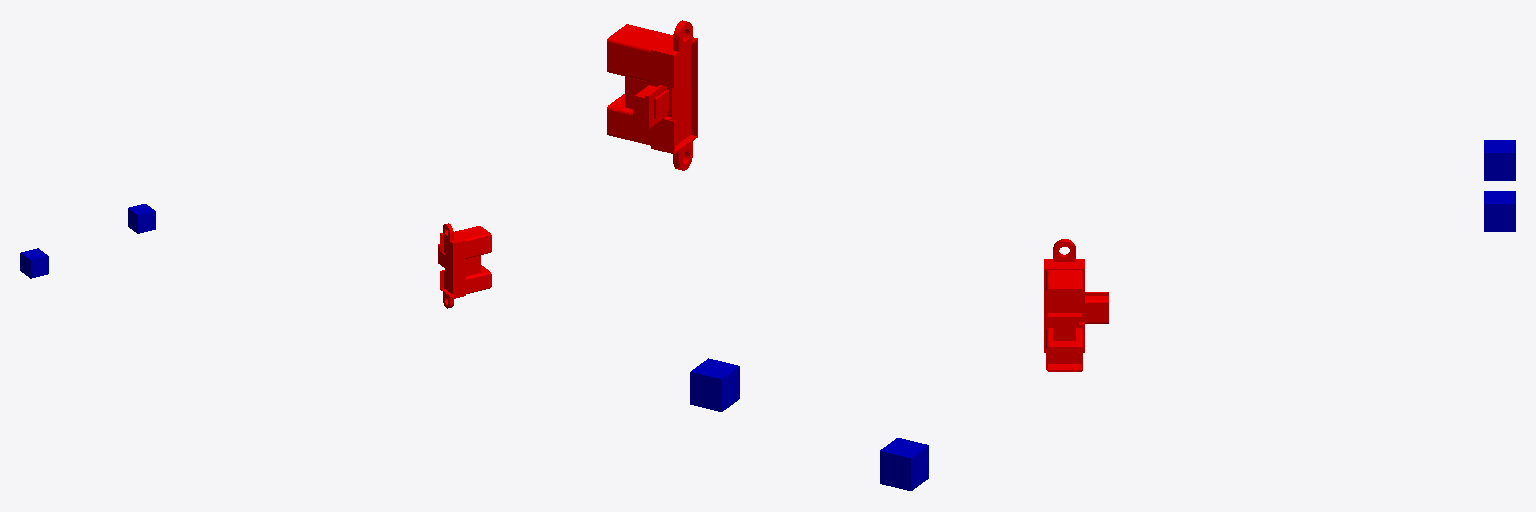
URDF robot description (quadrotor_hokuyo_utm30lx):
<?xml version="1.0" ?>
<!-- =================================================================================== -->
<!-- |    This document was autogenerated by xacro from quadrotor_psd.urdf.xacro       | -->
<!-- |    EDITING THIS FILE BY HAND IS NOT RECOMMENDED                                 | -->
<!-- =================================================================================== -->
<robot name="quadrotor_hokuyo_utm30lx" xmlns:controller="http://playerstage.sourceforge.net/gazebo/xmlschema/#controller" xmlns:interface="http://playerstage.sourceforge.net/gazebo/xmlschema/#interface" xmlns:sensor="http://playerstage.sourceforge.net/gazebo/xmlschema/#sensor" xmlns:xacro="http://ros.org/wiki/xacro">
  <!-- Included URDF Files -->
  <!-- Quadrotor Sensor Plugins 

        <frameId>ardrone_base_link</frameId>

-->
  <!-- Quadrotor Simple Controller Plugin -->
  <!-- Quadrotor Gazebo Plugins -->
  <!-- Main quadrotor link -->
  <!-- Instantiate quadrotor_base_macro once (has no parameters atm) -->
  <link name="base_link">
    <inertial>
      <mass value="1.477"/>
      <origin xyz="0 0 0"/>
      <inertia ixx="0.01152" ixy="0.0" ixz="0.0" iyy="0.01152" iyz="0.0" izz="0.0218"/>
    </inertial>
    <visual>
      <origin rpy="0 0 0" xyz="0 0 0"/>
      <geometry>
        <mesh filename="package://cvg_sim_gazebo/meshes/quadrotor/quadrotor_4.dae"/>
      </geometry>
    </visual>
    <collision>
      <origin rpy="0 0 0" xyz="0 0 0"/>
      <geometry>
        <mesh filename="package://cvg_sim_gazebo/meshes/quadrotor/quadrotor_4.stl"/>
      </geometry>
    </collision>
  </link>
  <gazebo reference="base_link">
    <turnGravityOff>false</turnGravityOff>
  </gazebo>
  <!-- Gazebo Plugins -->
  <canonicalBody>base_link</canonicalBody>
  <gazebo>
    <plugin filename="libhector_gazebo_ros_imu.so" name="quadrotor_imu_sim">
      <alwaysOn>true</alwaysOn>
      <updateRate>100.0</updateRate>
      <bodyName>base_link</bodyName>
      <frameId>ardrone_base_link</frameId>
      <topicName>/ardrone/imu</topicName>
      <rpyOffsets>0 0 0</rpyOffsets>
      <!-- deprecated -->
      <gaussianNoise>0</gaussianNoise>
      <!-- deprecated -->
      <accelDrift>0.5 0.5 0.5</accelDrift>
      <accelGaussianNoise>0.35 0.35 0.3</accelGaussianNoise>
      <rateDrift>0.0 0.0 0.0</rateDrift>
      <rateGaussianNoise>0.00 0.00 0.00</rateGaussianNoise>
      <headingDrift>0.0</headingDrift>
      <headingGaussianNoise>0.00</headingGaussianNoise>
    </plugin>
    <plugin filename="libhector_gazebo_ros_baro.so" name="quadrotor_baro_sim">
      <alwaysOn>true</alwaysOn>
      <updateRate>10.0</updateRate>
      <bodyName>base_link</bodyName>
      <topicName>pressure_height</topicName>
      <altimeterTopicName>altimeter</altimeterTopicName>
      <offset>0</offset>
      <drift>0.1</drift>
      <gaussianNoise>0.5</gaussianNoise>
    </plugin>
    <plugin filename="libhector_gazebo_ros_magnetic.so" name="quadrotor_magnetic_sim">
      <alwaysOn>true</alwaysOn>
      <updateRate>10.0</updateRate>
      <bodyName>base_link</bodyName>
      <topicName>magnetic</topicName>
      <offset>0 0 0</offset>
      <drift>0.0 0.0 0.0</drift>
      <gaussianNoise>1.3e-2 1.3e-2 1.3e-2</gaussianNoise>
    </plugin>
    <plugin filename="libhector_gazebo_ros_gps.so" name="quadrotor_gps_sim">
      <alwaysOn>true</alwaysOn>
      <updateRate>4.0</updateRate>
      <bodyName>base_link</bodyName>
      <topicName>fix</topicName>
      <velocityTopicName>fix_velocity</velocityTopicName>
      <drift>5.0 5.0 5.0</drift>
      <gaussianNoise>0.1 0.1 0.1</gaussianNoise>
      <velocityDrift>0 0 0</velocityDrift>
      <velocityGaussianNoise>0.1 0.1 0.1</velocityGaussianNoise>
    </plugin>
    <plugin filename="libgazebo_ros_p3d.so" name="quadrotor_groundtruth_sim">
      <alwaysOn>true</alwaysOn>
      <updateRate>100.0</updateRate>
      <bodyName>base_link</bodyName>
      <topicName>ground_truth/state</topicName>
      <gaussianNoise>0.0</gaussianNoise>
      <frameName>map</frameName>
    </plugin>
  </gazebo>
  <gazebo>
    <plugin filename="libhector_gazebo_quadrotor_simple_controller.so" name="quadrotor_simple_controller">
      <alwaysOn>true</alwaysOn>
      <updateRate>0.0</updateRate>
      <bodyName>base_link</bodyName>
      <stateTopic>ground_truth/state</stateTopic>
      <imuTopic>ardrone/imu</imuTopic>
      <topicName>cmd_vel</topicName>
      <rollpitchProportionalGain>10.0</rollpitchProportionalGain>
      <rollpitchDifferentialGain>5.0</rollpitchDifferentialGain>
      <rollpitchLimit>0.5</rollpitchLimit>
      <yawProportionalGain>2.0</yawProportionalGain>
      <yawDifferentialGain>1.0</yawDifferentialGain>
      <yawLimit>1.5</yawLimit>
      <velocityXYProportionalGain>5.0</velocityXYProportionalGain>
      <velocityXYDifferentialGain>1.0</velocityXYDifferentialGain>
      <velocityXYLimit>2</velocityXYLimit>
      <velocityZProportionalGain>5.0</velocityZProportionalGain>
      <velocityZDifferentialGain>1.0</velocityZDifferentialGain>
      <velocityZLimit>0.5</velocityZLimit>
      <maxForce>30</maxForce>
      <motionSmallNoise>0.05</motionSmallNoise>
      <motionDriftNoise>0.03</motionDriftNoise>
      <motionDriftNoiseTime>5.0</motionDriftNoiseTime>
    </plugin>
    <plugin filename="libhector_gazebo_quadrotor_state_controller.so" name="quadrotor_state_controller">
      <alwaysOn>true</alwaysOn>
      <updateRate>0.0</updateRate>
      <bodyName>base_link</bodyName>
      <stateTopic>ground_truth/state</stateTopic>
      <imuTopic>ardrone/imu</imuTopic>
      <sonarTopic>sonar_height</sonarTopic>
      <topicName>cmd_vel</topicName>
    </plugin>
  </gazebo>
  <!-- Sonar height sensor -->
  <joint name="sonar_joint" type="fixed">
    <origin rpy="0 1.57079632679 0" xyz="-0.15 0.0 0.0"/>
    <parent link="base_link"/>
    <child link="sonar_link"/>
  </joint>
  <link name="sonar_link">
    <inertial>
      <mass value="0.001"/>
      <origin rpy="0 0 0" xyz="0 0 0"/>
      <inertia ixx="0.000000017" ixy="0" ixz="0" iyy="0.000000017" iyz="0" izz="0.000000017"/>
    </inertial>
    <visual>
      <origin rpy="0 0 0" xyz="0 0 0"/>
      <geometry>
        <!--<box size="0.01 0.01 0.01" /> -->
        <mesh filename="package://cvg_sim_gazebo/meshes/sonar_sensor/max_sonar_ez4.dae"/>
      </geometry>
    </visual>
    <collision>
      <origin rpy="0 0 0" xyz="0 0 0"/>
      <geometry>
        <box size="0.01 0.01 0.01"/>
      </geometry>
    </collision>
  </link>
  <gazebo reference="sonar_link">
    <sensor name="sonar" type="ray">
      <update_rate>10</update_rate>
      <ray>
        <range>
          <min>0.01</min>
          <max>3.0</max>
          <resolution>0.01</resolution>
        </range>
        <scan>
          <horizontal>
            <samples>3</samples>
            <min_angle>-0.00872664625995</min_angle>
            <max_angle>0.00872664625995</max_angle>
          </horizontal>
          <vertical>
            <samples>3</samples>
            <min_angle>-0.00872664625995</min_angle>
            <max_angle>0.00872664625995</max_angle>
          </vertical>
        </scan>
      </ray>
      <plugin filename="libhector_gazebo_ros_sonar.so" name="gazebo_ros_sonar_controller">
        <gaussianNoise>0.000</gaussianNoise>
        <topicName>sonar_height</topicName>
        <frameId>sonar_link</frameId>
      </plugin>
      <visualize>true</visualize>
    </sensor>
  </gazebo>
  <!-- psd sensor -->
  <joint name="psd_left_joint" type="fixed">
    <origin rpy="0 0 0" xyz="0.3 -0.14 0.02"/>
    <parent link="base_link"/>
    <child link="psd_left_link"/>
  </joint>
  <link name="psd_left_link">
    <inertial>
      <mass value="0.001"/>
      <origin rpy="0 1.57079632679 0" xyz="0 0 0"/>
      <inertia ixx="0.000000017" ixy="0" ixz="0" iyy="0.000000017" iyz="0" izz="0.000000017"/>
    </inertial>
    <visual>
      <origin rpy="0 1.57079632679 0" xyz="0 0 0"/>
      <geometry>
        <!--<box size="0.01 0.01 0.01" /> -->
        <mesh filename="package://cvg_sim_gazebo/meshes/psd_sensor/psd_sensor.stl" scale="0.01 0.01 0.01"/>
      </geometry>
      <material name="red">
        <color rgba="1 0 0 1"/>
      </material>
    </visual>
    <collision>
      <origin rpy="0 1.57079632679 0" xyz="0 0 0"/>
      <geometry>
        <box size="0.01 0.01 0.01"/>
        <mesh filename="package://cvg_sim_gazebo/meshes/psd_sensor/psd_sensor.stl" scale="0.01 0.01 0.01"/>
      </geometry>
    </collision>
  </link>
  <gazebo reference="psd_left_link">
    <sensor name="psd_left" type="ray">
      <!-- Position the ray sensor based on the specification. Also rotate
       it by 90 degrees around the X-axis so that the <horizontal> rays
       become vertical -->
      <update_rate>30</update_rate>
      <ray>
        <range>
          <min>0.01</min>
          <max>0.5</max>
          <resolution>0.01</resolution>
        </range>
        <scan>
          <horizontal>
            <samples>4</samples>
            <!-- beams -->
            <!-- Resolution is multiplied by samples to determine number of simulated beams vs interpolated beams. See: http://sdformat.org/spec?ver=1.6&elem=sensor#horizontal_resolution
           -->
            <resolution>1</resolution>
            <min_angle>-0.05</min_angle>
            <max_angle>0.05</max_angle>
          </horizontal>
          <!-- <vertical> -->
          <!--   <samples>${ray_count}</samples> -->
          <!--   <min_angle>-${field_of_view/2}</min_angle> -->
          <!--   <max_angle>${field_of_view/2}</max_angle> -->
          <!-- </vertical> -->
        </scan>
      </ray>
      <plugin filename="libhector_gazebo_ros_sonar.so" name="gazebo_ros_psd_left_controller">
        <gaussianNoise>0.000</gaussianNoise>
        <topicName>psd_left</topicName>
        <frameId>psd_left_link</frameId>
      </plugin>
      <visualize>true</visualize>
    </sensor>
  </gazebo>
  <joint name="psd_right_joint" type="fixed">
    <origin rpy="0 0 0" xyz="0.3 -0.14 0.02"/>
    <parent link="base_link"/>
    <child link="psd_right_link"/>
  </joint>
  <link name="psd_right_link">
    <inertial>
      <mass value="0.001"/>
      <origin rpy="0 1.57079632679 0" xyz="0 0 0"/>
      <inertia ixx="0.000000017" ixy="0" ixz="0" iyy="0.000000017" iyz="0" izz="0.000000017"/>
    </inertial>
    <visual>
      <origin rpy="0 1.57079632679 0" xyz="0 0 0"/>
      <geometry>
        <!--<box size="0.01 0.01 0.01" /> -->
        <mesh filename="package://cvg_sim_gazebo/meshes/psd_sensor/psd_sensor.stl" scale="0.01 0.01 0.01"/>
      </geometry>
      <material name="red">
        <color rgba="1 0 0 1"/>
      </material>
    </visual>
    <collision>
      <origin rpy="0 1.57079632679 0" xyz="0 0 0"/>
      <geometry>
        <box size="0.01 0.01 0.01"/>
        <mesh filename="package://cvg_sim_gazebo/meshes/psd_sensor/psd_sensor.stl" scale="0.01 0.01 0.01"/>
      </geometry>
    </collision>
  </link>
  <gazebo reference="psd_right_link">
    <sensor name="psd_right" type="ray">
      <!-- Position the ray sensor based on the specification. Also rotate
       it by 90 degrees around the X-axis so that the <horizontal> rays
       become vertical -->
      <update_rate>30</update_rate>
      <ray>
        <range>
          <min>0.01</min>
          <max>0.5</max>
          <resolution>0.01</resolution>
        </range>
        <scan>
          <horizontal>
            <samples>4</samples>
            <!-- beams -->
            <!-- Resolution is multiplied by samples to determine number of simulated beams vs interpolated beams. See: http://sdformat.org/spec?ver=1.6&elem=sensor#horizontal_resolution
           -->
            <resolution>1</resolution>
            <min_angle>-0.05</min_angle>
            <max_angle>0.05</max_angle>
          </horizontal>
          <!-- <vertical> -->
          <!--   <samples>${ray_count}</samples> -->
          <!--   <min_angle>-${field_of_view/2}</min_angle> -->
          <!--   <max_angle>${field_of_view/2}</max_angle> -->
          <!-- </vertical> -->
        </scan>
      </ray>
      <plugin filename="libhector_gazebo_ros_sonar.so" name="gazebo_ros_psd_right_controller">
        <gaussianNoise>0.000</gaussianNoise>
        <topicName>psd_right</topicName>
        <frameId>psd_right_link</frameId>
      </plugin>
      <visualize>true</visualize>
    </sensor>
  </gazebo>
  <!-- Hokuyo UTM-30LX mounted upside down below the quadrotor body 
    <xacro:include filename="$(find cvg_sim_gazebo)/urdf/sensors/hokuyo_utm30lx.urdf.xacro" />
    <xacro:hokuyo_utm30lx name="laser0" parent="base_link" ros_topic="scan" update_rate="40" ray_count="1081" min_angle="135" max_angle="-135">
      <origin xyz="0.0 0.0 0.08" rpy="${M_PI} 0 0"/>
    </xacro:hokuyo_utm30lx>-->
  <!-- The following two cameras should be united to one! -->
  <!-- Forward facing camera -->
  <joint name="front_joint" type="fixed">
    <origin rpy="0 0 0" xyz="0.21 0.0 0.01"/>
    <parent link="base_link"/>
    <child link="front_link"/>
  </joint>
  <link name="front_link">
    <inertial>
      <mass value="0.001"/>
      <origin rpy="0 0 0" xyz="0 0 0"/>
      <inertia ixx="0.0001" ixy="0" ixz="0" iyy="0.0001" iyz="0" izz="0.0001"/>
    </inertial>
    <visual>
      <origin rpy="0 0 0" xyz="0 0 0"/>
      <geometry>
        <box size="0.01 0.01 0.01"/>
      </geometry>
      <material name="Blue">
        <color rgba="0.0 0.0 0.8 1"/>
      </material>
    </visual>
    <collision>
      <origin rpy="0 0 0" xyz="0 0 0"/>
      <geometry>
        <box size="0.01 0.01 0.01"/>
      </geometry>
    </collision>
  </link>
  <joint name="front_optical_joint" type="fixed">
    <origin rpy="-1.57079632679 0.0 -1.57079632679" xyz="0 0 0"/>
    <parent link="front_link"/>
    <child link="ardrone_base_frontcam"/>
  </joint>
  <link name="ardrone_base_frontcam">
    <inertial>
      <mass value="0.01"/>
      <origin xyz="0 0 0"/>
      <inertia ixx="0.001" ixy="0.0" ixz="0.0" iyy="0.001" iyz="0.0" izz="0.001"/>
    </inertial>
    <visual>
      <origin rpy="0 0 0" xyz="0 0 0"/>
      <geometry>
        <box size="0.001 0.001 0.001"/>
      </geometry>
    </visual>
    <collision>
      <origin rpy="0 0 0" xyz="0 0 0"/>
      <geometry>
        <box size="0.001 0.001 0.001"/>
      </geometry>
    </collision>
  </link>
  <gazebo reference="front_link">
    <sensor name="front_camera_sensor" type="camera">
      <update_rate>60</update_rate>
      <camera name="head">
        <horizontal_fov>1.41371669412</horizontal_fov>
        <image>
          <width>640</width>
          <height>360</height>
          <format>R8G8B8</format>
        </image>
        <clip>
          0.01
	    
          <near>0.01</near>
          <far>100</far>
        </clip>
      </camera>
      <plugin filename="libgazebo_ros_camera.so" name="front_camera_controller">
        <cameraName>/ardrone/front</cameraName>
        <alwaysOn>true</alwaysOn>
        <updateRate>60</updateRate>
        <imageTopicName>/ardrone/front/image_raw</imageTopicName>
        <cameraInfoTopicName>/ardrone/front/camera_info</cameraInfoTopicName>
        <frameName>ardrone_base_frontcam</frameName>
      </plugin>
    </sensor>
    <turnGravityOff>true</turnGravityOff>
    <material>Gazebo/Blue</material>
  </gazebo>
  <!-- Downward facing camera -->
  <joint name="bottom_joint" type="fixed">
    <origin rpy="0 1.57079632679 0" xyz="0.15 0.0 0.0"/>
    <parent link="base_link"/>
    <child link="bottom_link"/>
  </joint>
  <link name="bottom_link">
    <inertial>
      <mass value="0.001"/>
      <origin rpy="0 0 0" xyz="0 0 0"/>
      <inertia ixx="0.0001" ixy="0" ixz="0" iyy="0.0001" iyz="0" izz="0.0001"/>
    </inertial>
    <visual>
      <origin rpy="0 0 0" xyz="0 0 0"/>
      <geometry>
        <box size="0.01 0.01 0.01"/>
      </geometry>
      <material name="Blue">
        <color rgba="0.0 0.0 0.8 1"/>
      </material>
    </visual>
    <collision>
      <origin rpy="0 0 0" xyz="0 0 0"/>
      <geometry>
        <box size="0.01 0.01 0.01"/>
      </geometry>
    </collision>
  </link>
  <joint name="bottom_optical_joint" type="fixed">
    <origin rpy="-1.57079632679 0.0 -1.57079632679" xyz="0 0 0"/>
    <parent link="bottom_link"/>
    <child link="ardrone_base_bottomcam"/>
  </joint>
  <link name="ardrone_base_bottomcam">
    <inertial>
      <mass value="0.01"/>
      <origin xyz="0 0 0"/>
      <inertia ixx="0.001" ixy="0.0" ixz="0.0" iyy="0.001" iyz="0.0" izz="0.001"/>
    </inertial>
    <visual>
      <origin rpy="0 0 0" xyz="0 0 0"/>
      <geometry>
        <box size="0.001 0.001 0.001"/>
      </geometry>
    </visual>
    <collision>
      <origin rpy="0 0 0" xyz="0 0 0"/>
      <geometry>
        <box size="0.001 0.001 0.001"/>
      </geometry>
    </collision>
  </link>
  <gazebo reference="bottom_link">
    <sensor name="bottom_camera_sensor" type="camera">
      <update_rate>60</update_rate>
      <camera name="head">
        <horizontal_fov>1.41371669412</horizontal_fov>
        <image>
          <width>640</width>
          <height>360</height>
          <format>R8G8B8</format>
        </image>
        <clip>
          0.01
	    
          <near>0.01</near>
          <far>100</far>
        </clip>
      </camera>
      <plugin filename="libgazebo_ros_camera.so" name="bottom_camera_controller">
        <cameraName>/ardrone/bottom</cameraName>
        <alwaysOn>true</alwaysOn>
        <updateRate>60</updateRate>
        <imageTopicName>/ardrone/bottom/image_raw</imageTopicName>
        <cameraInfoTopicName>/ardrone/bottom/camera_info</cameraInfoTopicName>
        <frameName>ardrone_base_bottomcam</frameName>
      </plugin>
    </sensor>
    <turnGravityOff>true</turnGravityOff>
    <material>Gazebo/Blue</material>
  </gazebo>
</robot>

--- Facts derived from the render (not from the file) ---
The picture shows the robot from 3 angles, left to right: view 1: azimuth 30°, elevation 25°; view 2: azimuth 150°, elevation 25°; view 3: azimuth 270°, elevation 25°; orthographic projection.
Model quadrotor_hokuyo_utm30lx with 8 links and 7 joints (7 fixed), rooted at base_link, posed every joint at zero.
Visible links, largest first — view 1: psd_left_link, bottom_link, front_link; view 2: psd_left_link, front_link, bottom_link; view 3: psd_left_link, front_link, bottom_link.
Link boxes in pixels (<box>): psd_left_link: <box>438,223,491,308</box>; bottom_link: <box>20,248,48,278</box>; front_link: <box>128,204,155,233</box>; psd_left_link: <box>607,20,697,170</box>; front_link: <box>690,358,739,411</box>; bottom_link: <box>880,438,928,490</box>; psd_left_link: <box>1044,239,1108,371</box>; front_link: <box>1484,191,1515,231</box>; bottom_link: <box>1484,140,1515,180</box>.
Size in the robot's own frame: 0.1768 by 0.1515 by 0.0472 metres.
2 mesh visuals loaded from 3 distinct referenced files (1 binary STL); not drawn: 2 (reference not matched to a file when rendering).
